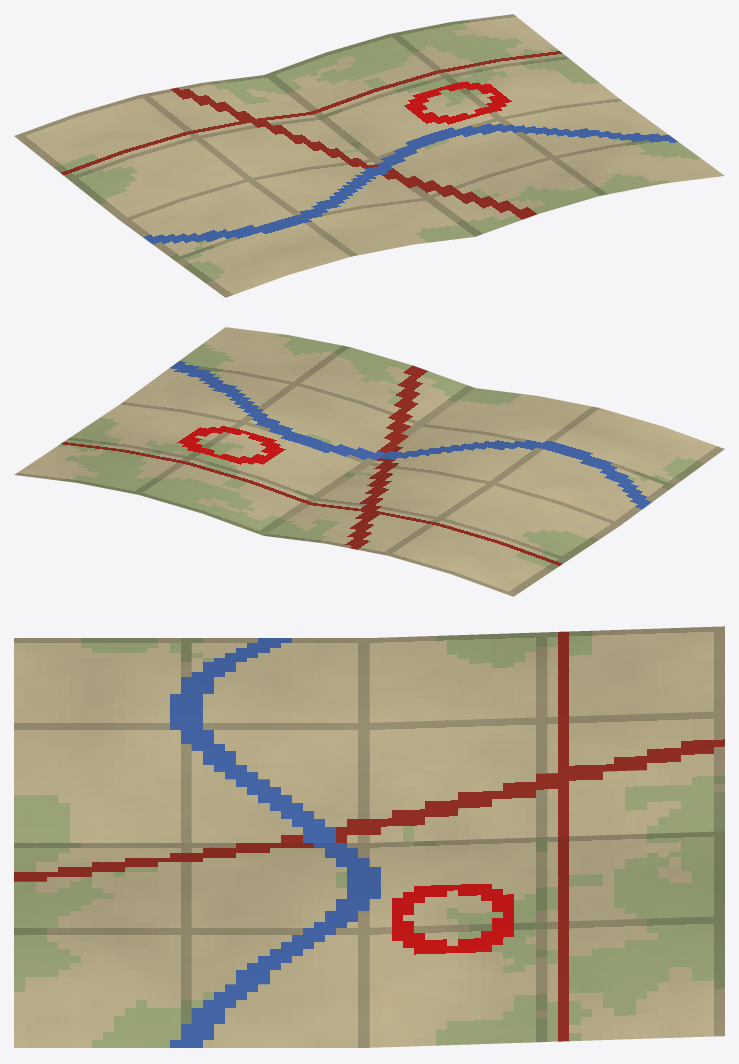
Rendered from item_map.glb.
The picture shows the model from 3 angles, top to bottom: view 1: azimuth 30°, elevation 25°; view 2: azimuth 150°, elevation 25°; view 3: azimuth 270°, elevation 25°; orthographic projection. The views are drawn at different scales.
Visible parts, largest first — view 1: map; view 2: map; view 3: map.
Boxes of the visible parts, x1,y1,x2,y2 form: map: (14, 14, 724, 297); map: (14, 327, 724, 596); map: (14, 626, 724, 1047).
Bounding box in the file's own units: 0.3 × 0.0106 × 0.22.
2 materials, 2 textured.
